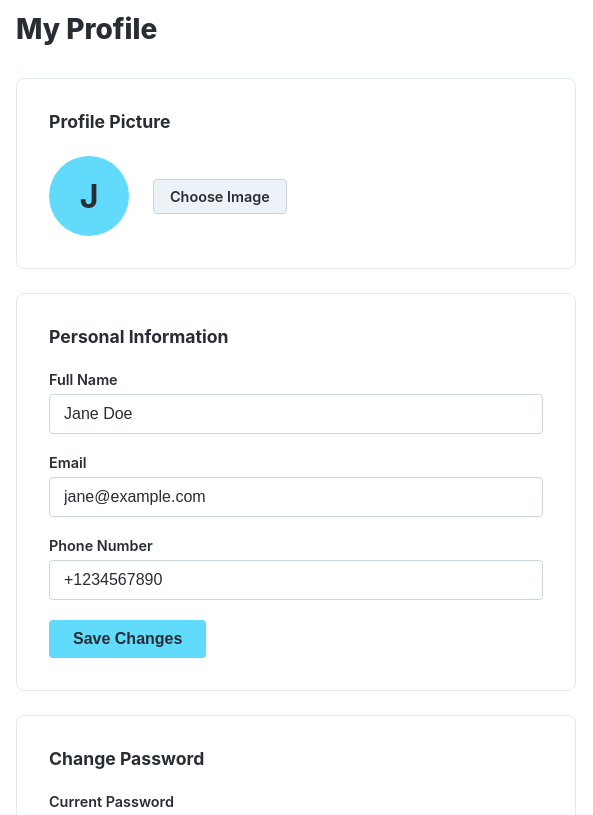
Test: ProfilePage › profile info form › shows required error when name is cleared and form is submitted
Step 1. Clear the field labelled "Full Name" → [296, 414], box [49,394,543,434]
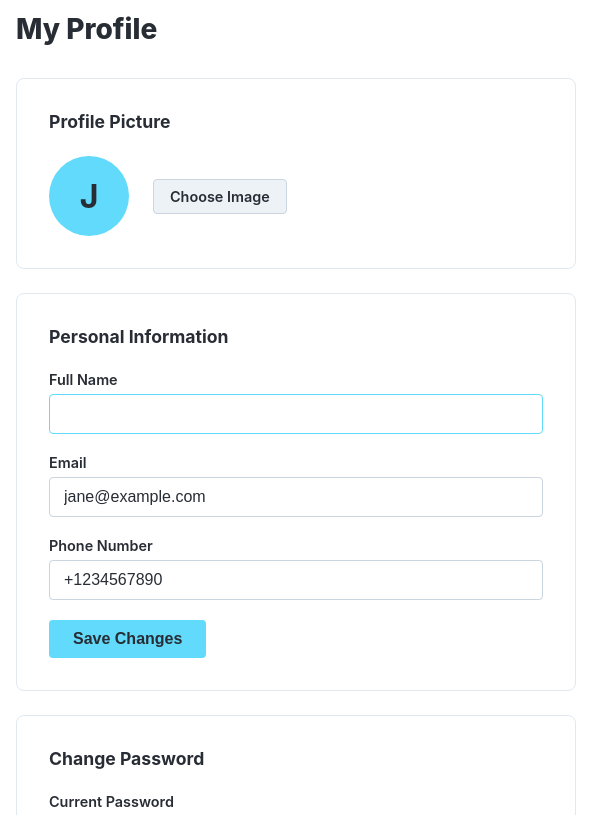
Step 2. Click the button "Save Changes" → [128, 639], box [49,620,206,658]
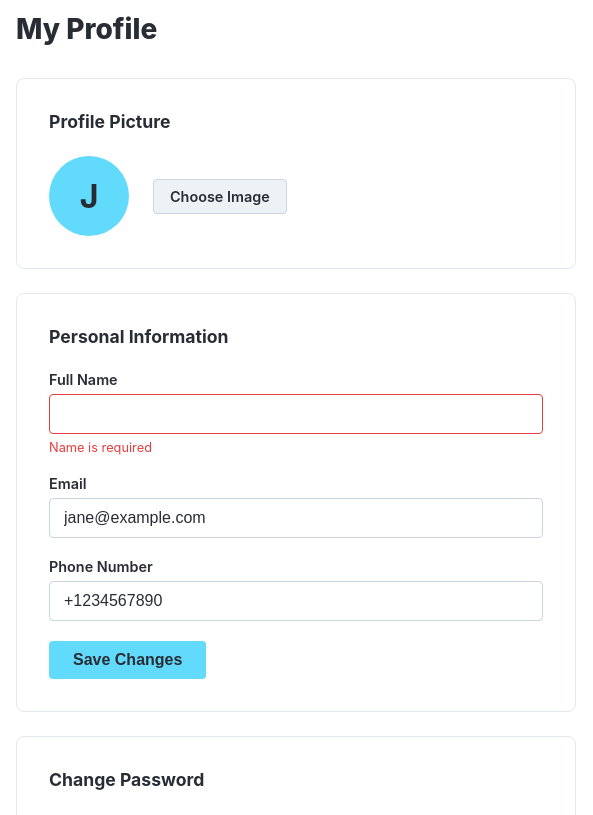
expect the text "Name is required" is shown: met, box [49,440,152,455]
